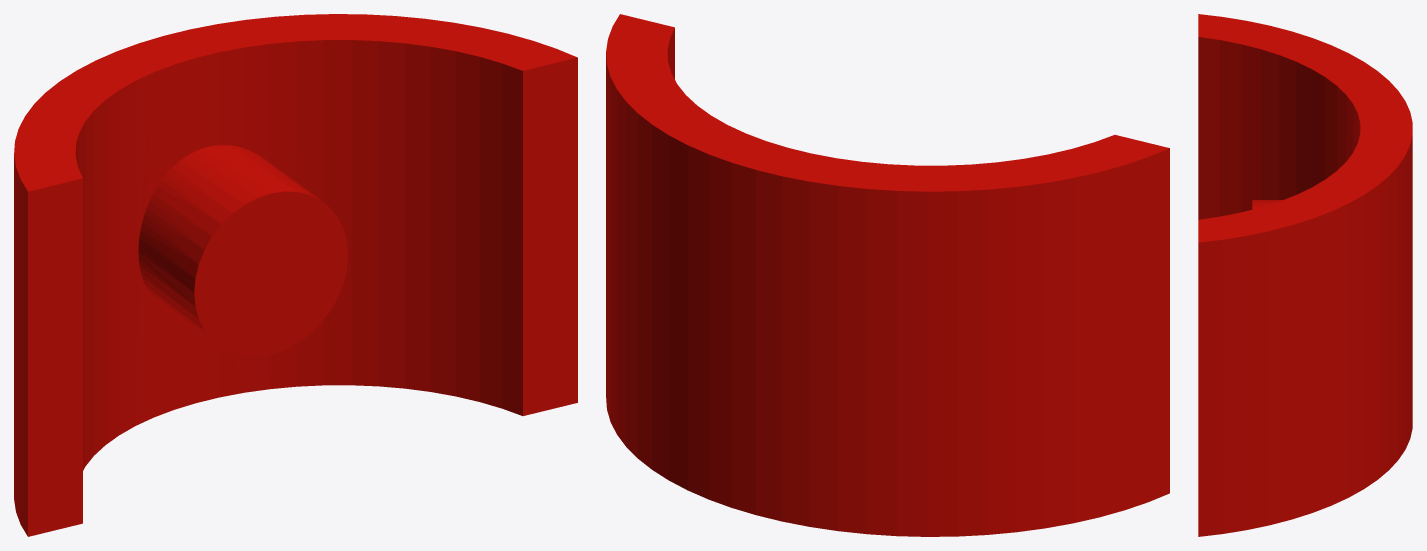
The model's file is ANGLE LIMITER.fbx.
The picture shows the model from 3 angles, left to right: view 1: azimuth 30°, elevation 25°; view 2: azimuth 150°, elevation 25°; view 3: azimuth 270°, elevation 25°; orthographic projection. The views are drawn at different scales.
Visible parts, largest first — view 1: ANGLE LIMITER; view 2: ANGLE LIMITER; view 3: ANGLE LIMITER.
Boxes of the visible parts, <box> form: ANGLE LIMITER: <box>14,14,577,536</box>; ANGLE LIMITER: <box>606,14,1169,536</box>; ANGLE LIMITER: <box>1198,14,1412,536</box>.
Bounding box in the file's own units: 5 × 3 × 1.98.
